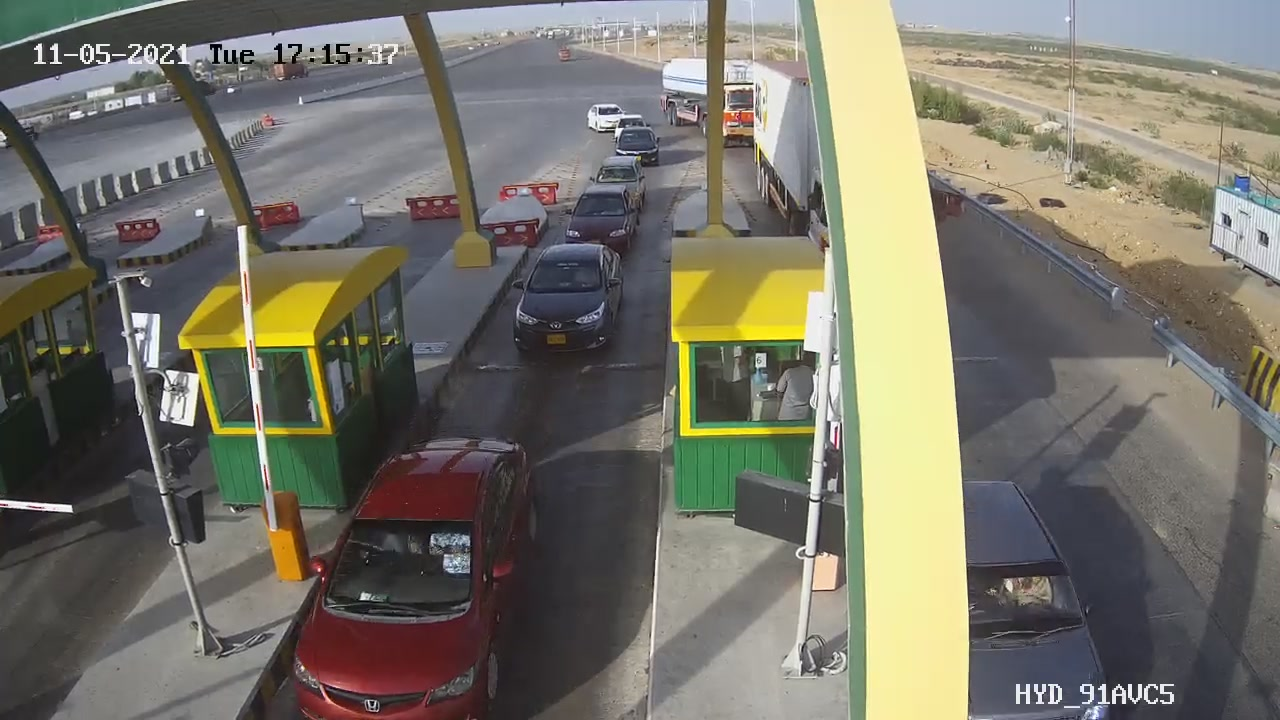F1: (495, 235, 640, 373)
